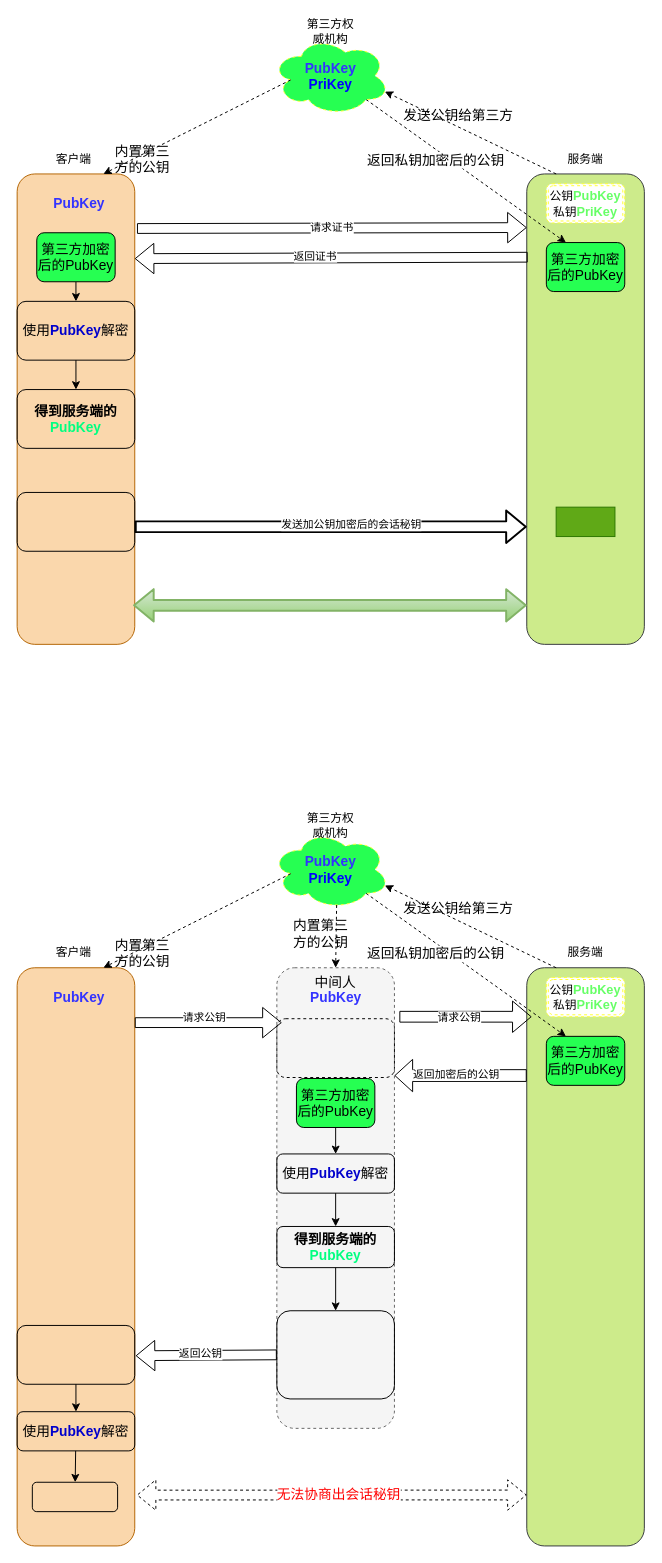
The diagram is 662 pixels wide and 1563 high, and some of its shapes have lost their labels. Each missing label, with the box of its shape:
会话秘钥: (555, 506, 615, 537)
伪造的公钥 PubKey: (16, 1324, 135, 1384)
使用公钥加密生成的会话秘钥: (16, 491, 135, 551)
把自己生成个公钥发给客户端，因为没有第三方的私钥加密公钥，客户端肯定解不开: (276, 1310, 394, 1399)
生成一套公私钥 PubKey PriKey: (276, 1018, 394, 1078)
解密失败: (31, 1481, 118, 1512)
